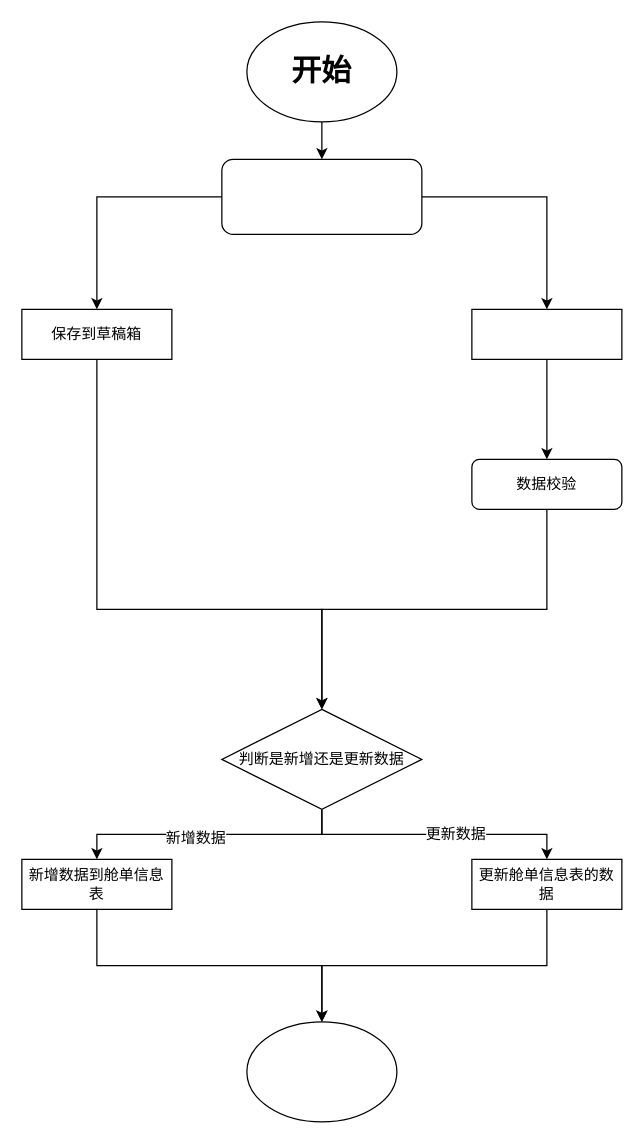
Some shapes in this 644 by 1144 pixel diagram are drawn without their labels. The centre of each missing label's shape, as x and y in pixels:
保存到待发送: the point at 546,333
接收用户录入的数据: the point at 321,196
结束: the point at 321,1071
